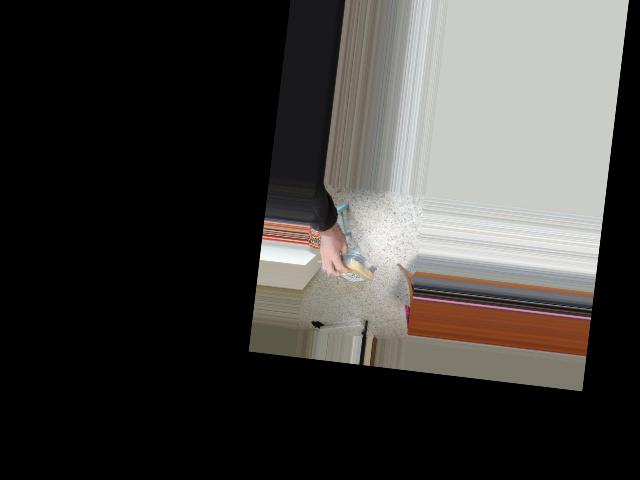cheese: (323, 248, 379, 287)
